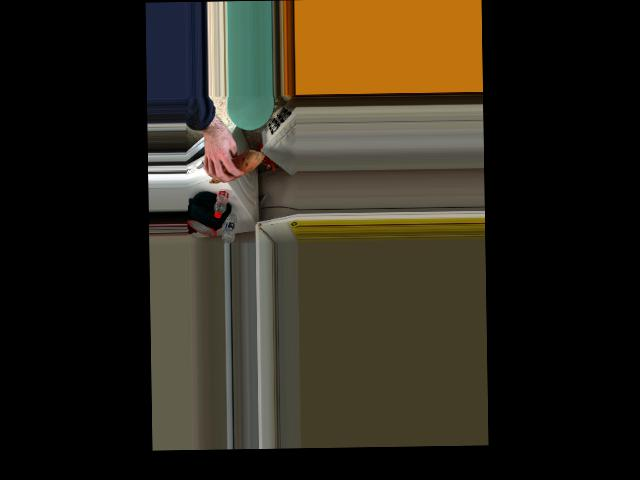sweet_potato: (206, 150, 262, 183)
